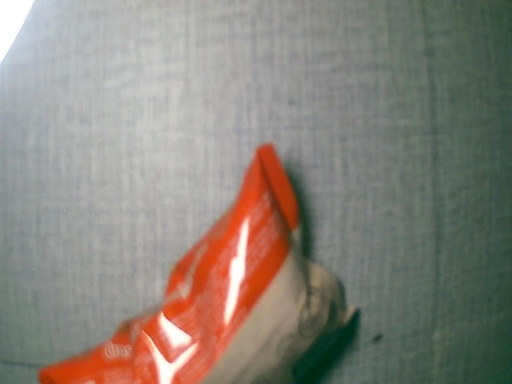plastic: (32, 144, 355, 384)
